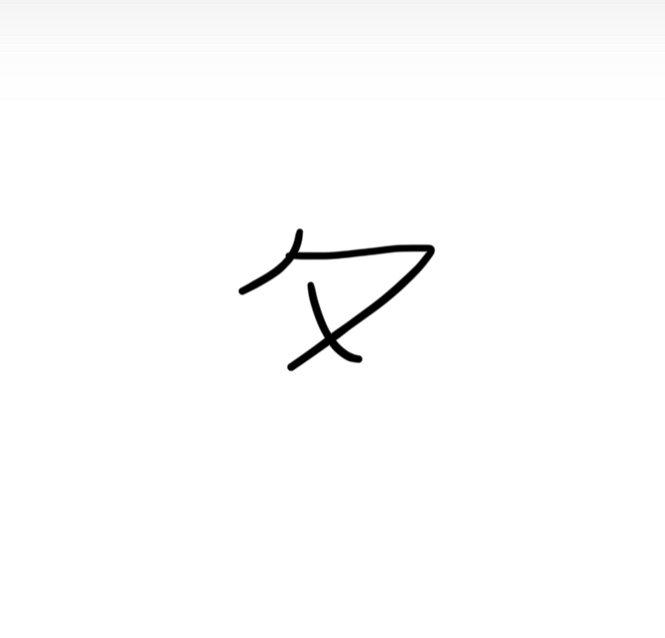ta: (209, 216, 448, 386)
